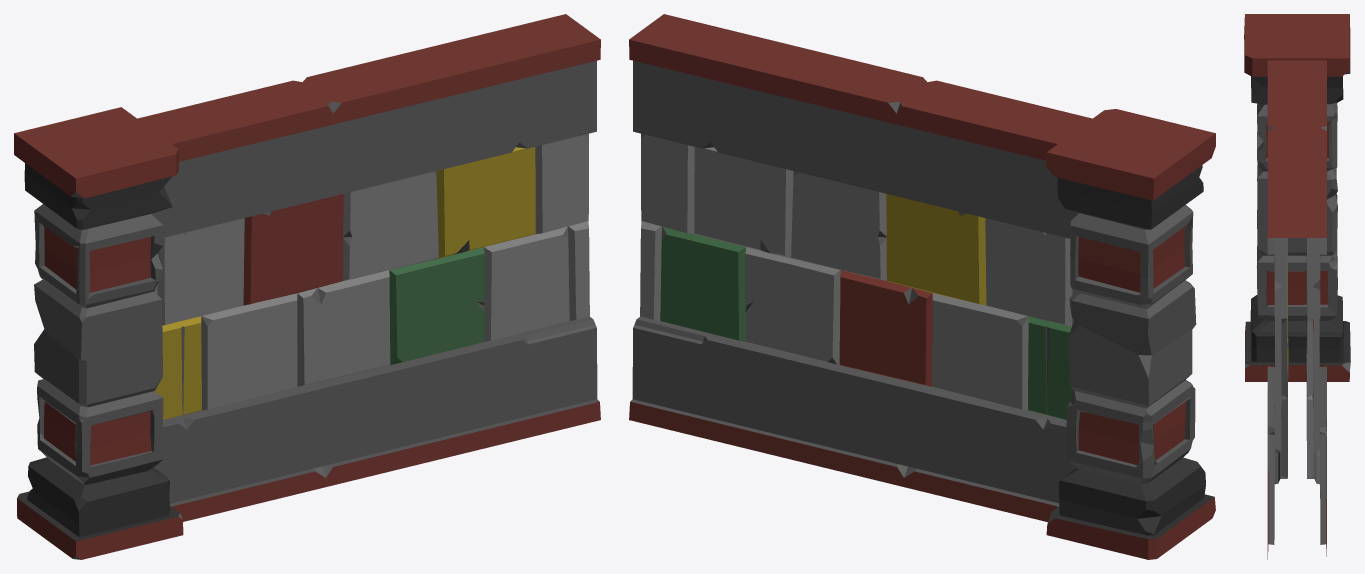
File: wall section_color_02.glb
The picture shows the model from 3 angles, left to right: view 1: azimuth 30°, elevation 25°; view 2: azimuth 150°, elevation 25°; view 3: azimuth 270°, elevation 25°; orthographic projection. The views are drawn at different scales.
Parts seen in each view (by area): view 1: Pillar 01.004; view 2: Pillar 01.004; view 3: Pillar 01.004.
Boxes of the visible parts, x1,y1,x2,y2 form: Pillar 01.004: (14,14,600,559); Pillar 01.004: (629,14,1215,559); Pillar 01.004: (1244,14,1350,559).
Size of the model in its own units: 4.45 by 3.02 by 0.9014.
